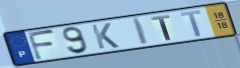9: (61, 26, 90, 55)
F: (26, 29, 58, 62)
I: (131, 16, 150, 46)
K: (89, 22, 121, 50)
T: (178, 9, 204, 38), (150, 14, 173, 42)
